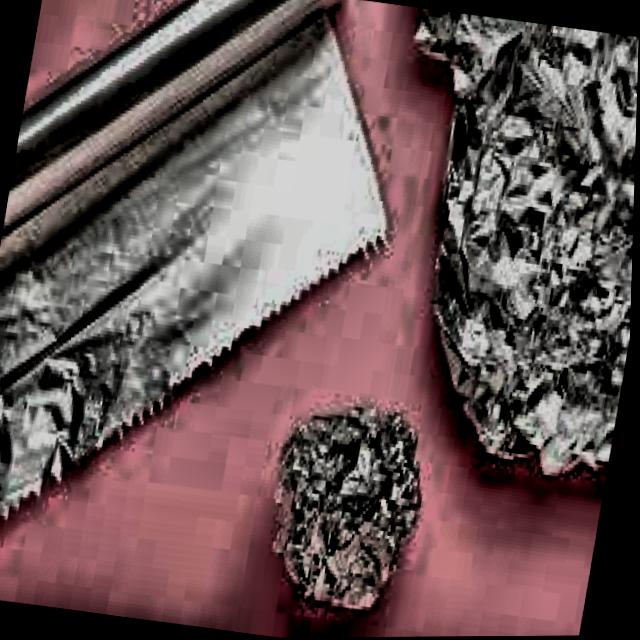Foil: (0, 0, 432, 629), (319, 3, 640, 506), (231, 384, 455, 639)
